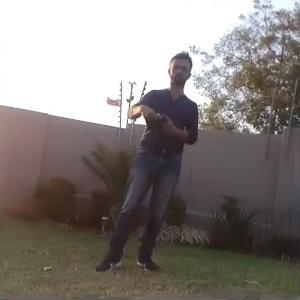follow: (89, 48, 200, 278)
